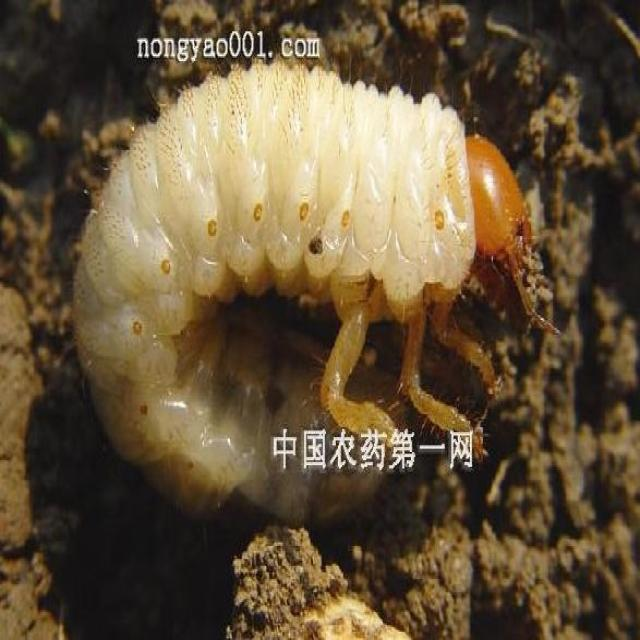grub: (66, 48, 531, 528)
